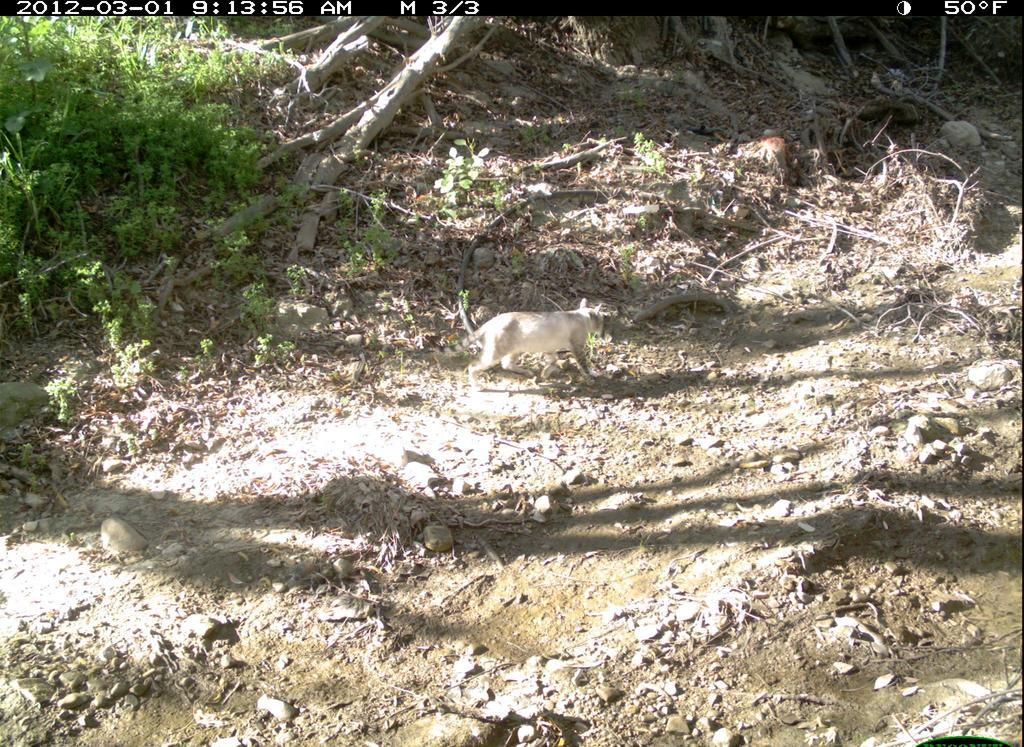cat: (418, 296, 610, 399)
